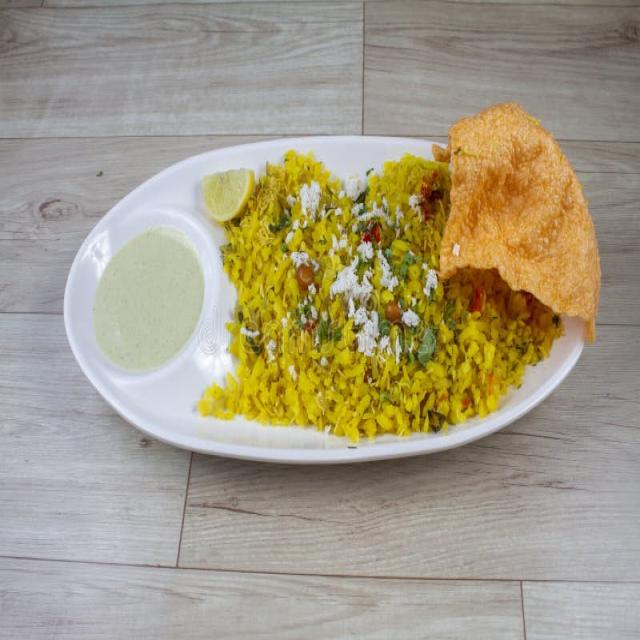DOSA: (438, 102, 601, 328)
UPMA: (200, 145, 566, 437)
